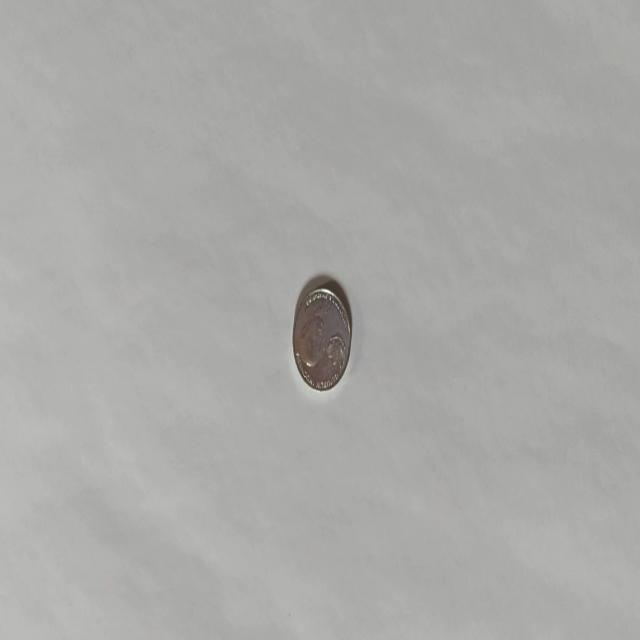lima ratus rupiah: (290, 280, 352, 392)
